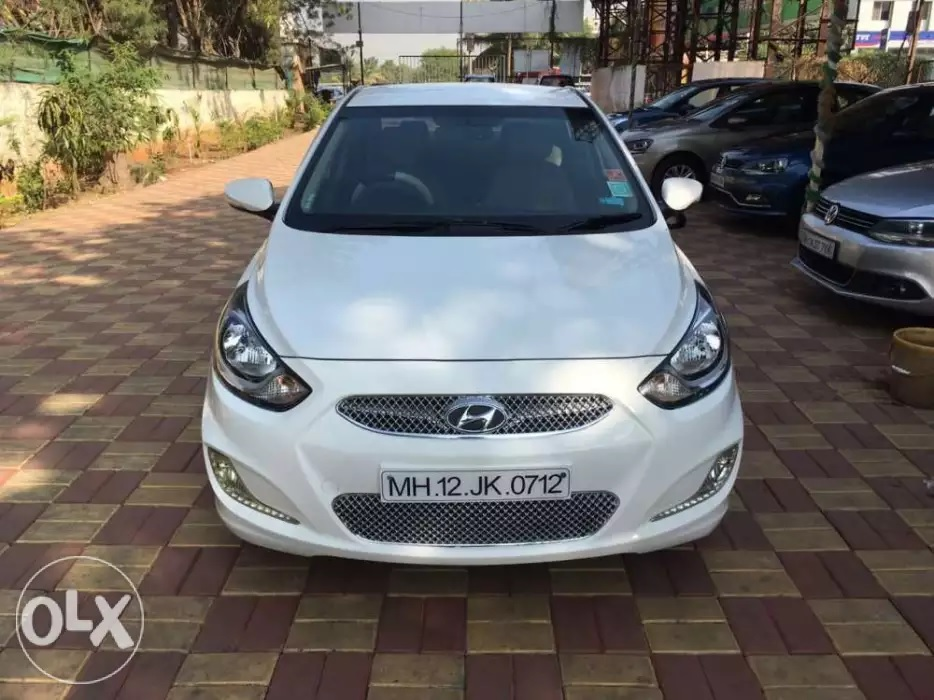licenseplate: (374, 458, 575, 507)
